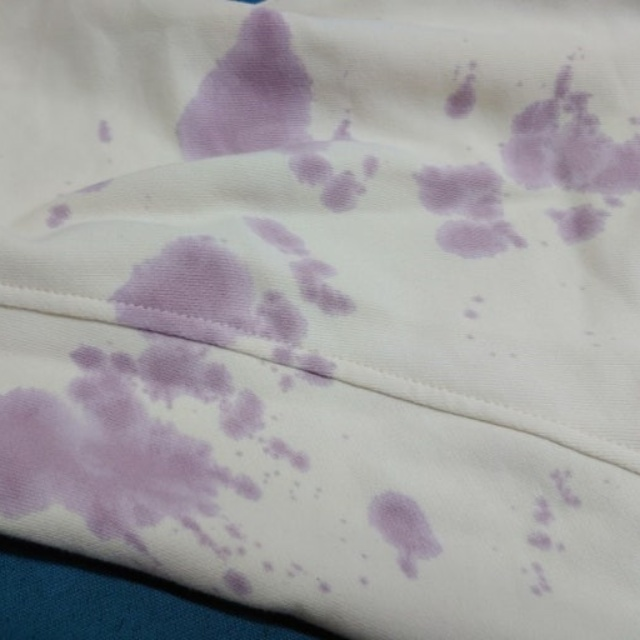wine: (350, 472, 457, 588)
